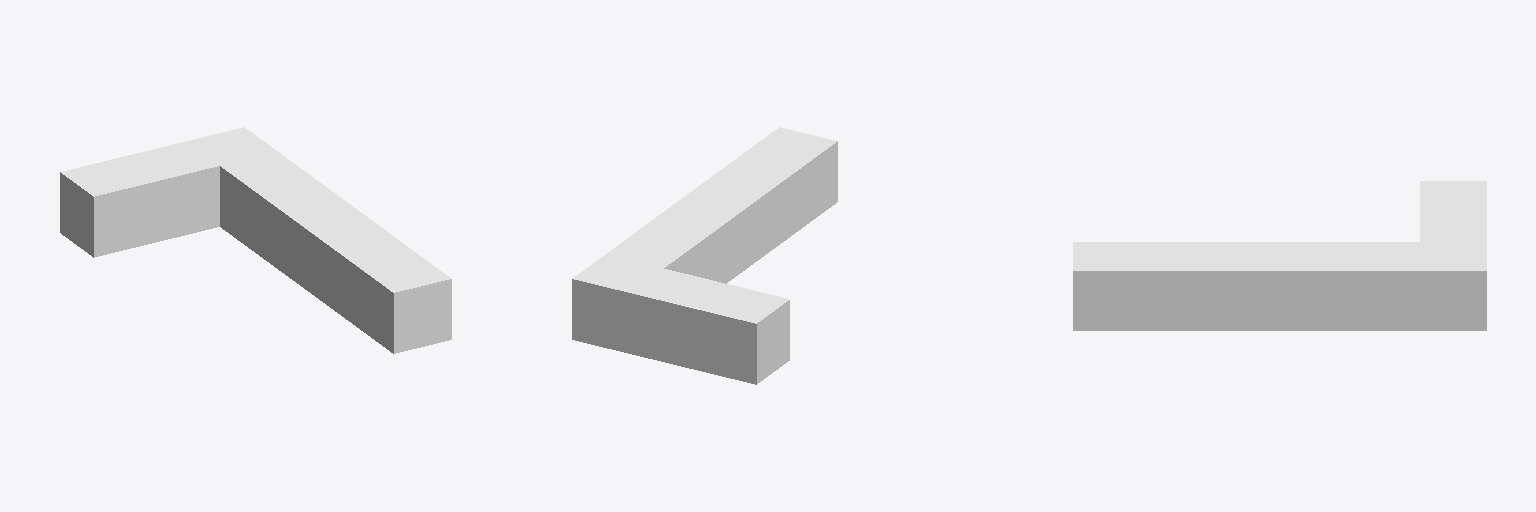
Rendered from humanoid-41.obj.
3 renders of one model, left to right at view 1: azimuth 30°, elevation 25°; view 2: azimuth 150°, elevation 25°; view 3: azimuth 270°, elevation 25°, orthographic.
Visible parts, largest first — view 1: humanoid-41; view 2: humanoid-41; view 3: humanoid-41.
Boxes of the visible parts, <box> form: humanoid-41: <box>60,127,451,353</box>; humanoid-41: <box>572,127,837,384</box>; humanoid-41: <box>1073,181,1486,330</box>.
Size of the model in its own units: 19 by 6 by 37.